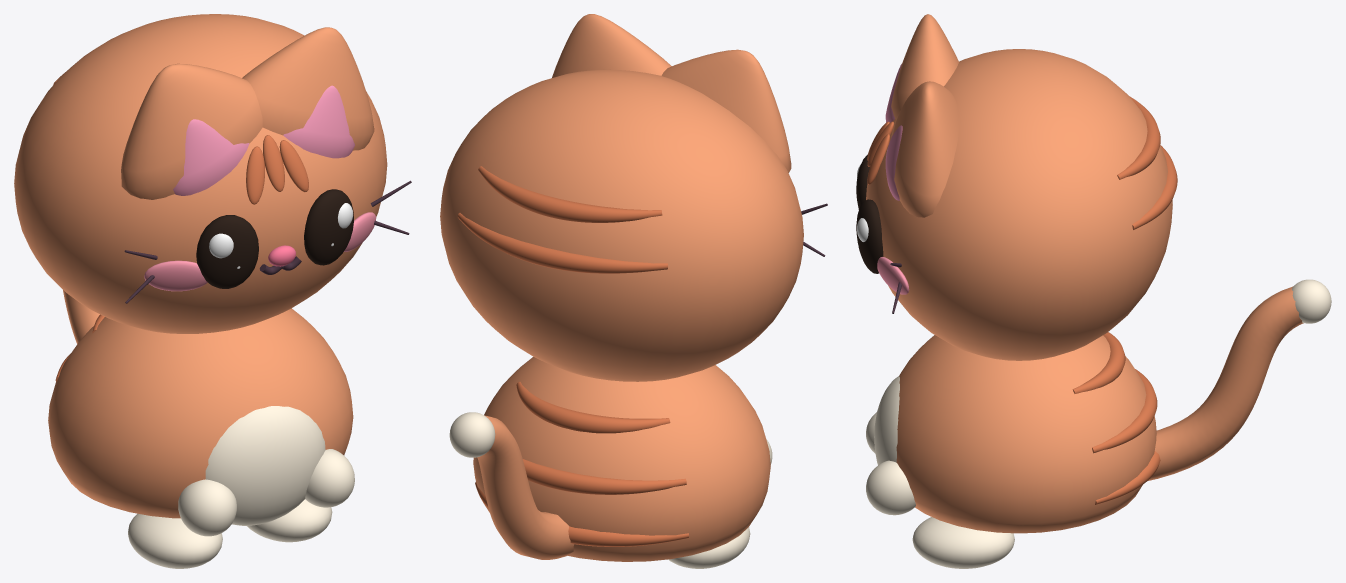
The model's file is cat.glb.
3 views of the same model, side by side, from view 1: azimuth 30°, elevation 25°; view 2: azimuth 150°, elevation 25°; view 3: azimuth 270°, elevation 25° (orthographic). The views are drawn at different scales.
Visible parts, largest first — view 1: skull, torso, ear_L, tummy, ear_R, sock_L, eye_L, ear_in_L, ear_in_R, eye_R, paw_L, paw_R (+8 smaller); view 2: skull, torso, tail_mesh, ear_L, ear_R, crown_1, crown_0, stripe_1, stripe_0, tail_tip, stripe_2, sock_L; view 3: skull, torso, tail_mesh, ear_R, sock_R, ear_L, paw_R, tummy, tail_tip, eye_R, stripe_1, crown_0 (+5 smaller).
Boxes of the visible parts, x1,y1,x2,y2 form: skull: (14, 14, 387, 333); torso: (48, 308, 353, 518); ear_L: (121, 63, 262, 199); tummy: (205, 406, 325, 525); ear_R: (242, 27, 374, 150); sock_L: (128, 513, 222, 568); eye_L: (196, 215, 258, 288); ear_in_L: (173, 119, 249, 195); ear_in_R: (283, 85, 354, 158); eye_R: (304, 189, 353, 265); paw_L: (178, 479, 236, 536); paw_R: (305, 449, 354, 507); skull: (440, 69, 803, 381); torso: (473, 357, 770, 561); tail_mesh: (477, 415, 573, 559); ear_L: (661, 49, 791, 172); ear_R: (552, 14, 671, 77); crown_1: (457, 213, 667, 273); crown_0: (478, 166, 662, 222); stripe_1: (523, 459, 686, 494); stripe_0: (516, 382, 670, 433); tail_tip: (449, 412, 495, 457); stripe_2: (475, 481, 689, 546); sock_L: (668, 527, 750, 568); skull: (866, 49, 1172, 360); torso: (896, 335, 1156, 533); tail_mesh: (1148, 286, 1303, 480); ear_R: (891, 81, 959, 217); sock_R: (912, 517, 1014, 568); ear_L: (891, 14, 958, 118); paw_R: (866, 460, 915, 515); tummy: (874, 376, 899, 464); tail_tip: (1292, 279, 1331, 323); eye_R: (856, 199, 883, 273); stripe_1: (1092, 369, 1157, 453); crown_0: (1117, 96, 1160, 179).
Size of the model in its own units: 0.86 by 1.26 by 1.11.
